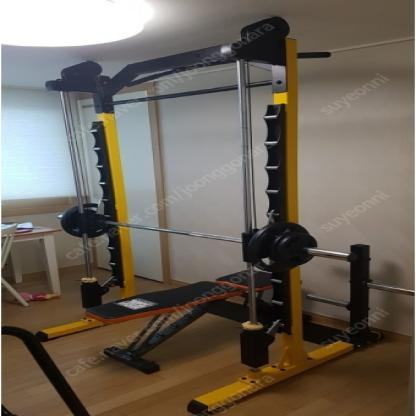smith machine: (49, 14, 390, 416)
